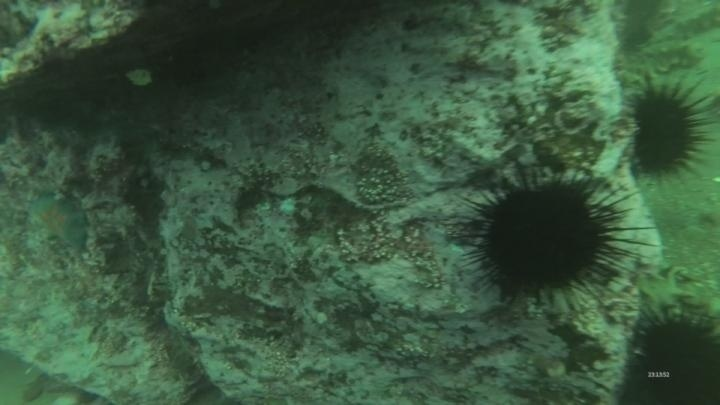echinus: (452, 162, 642, 314), (621, 75, 716, 183), (621, 306, 720, 405)
holothurian: (635, 2, 719, 54), (618, 38, 707, 80)
starfish: (23, 189, 92, 254)
